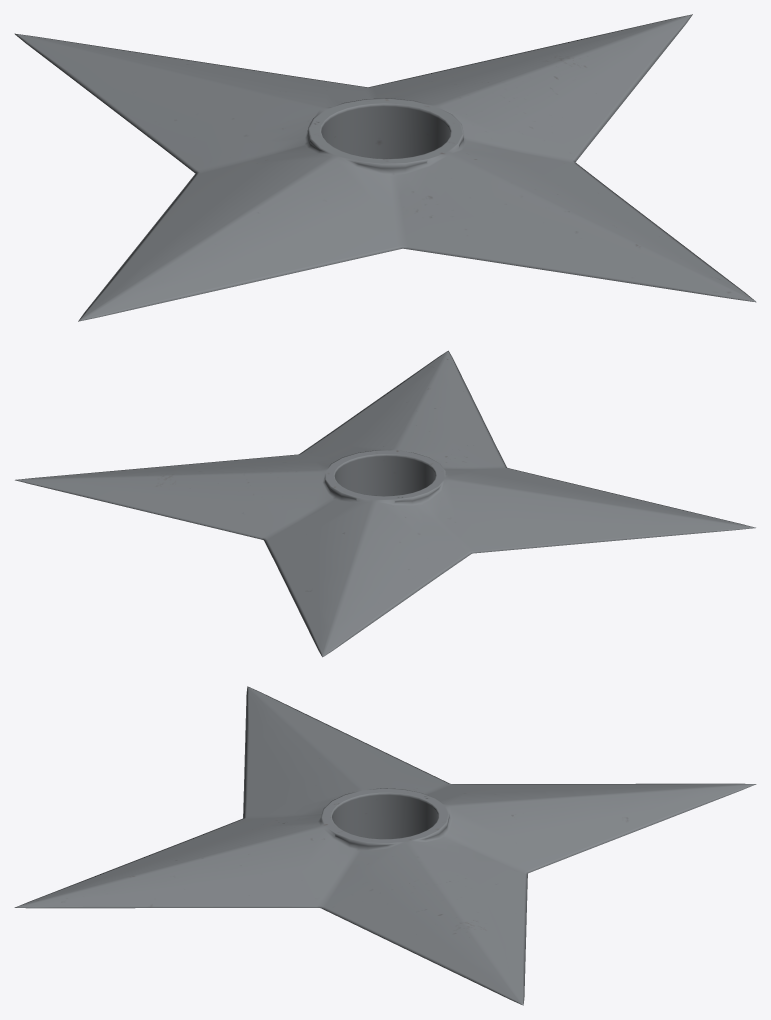
Rendered from Sjuriken1.fbx.
The picture shows the model from 3 angles, top to bottom: view 1: azimuth 30°, elevation 25°; view 2: azimuth 150°, elevation 25°; view 3: azimuth 270°, elevation 25°; orthographic projection. The views are drawn at different scales.
Visible parts, largest first — view 1: Shuriken; view 2: Shuriken; view 3: Shuriken.
Part boxes in pixels (left/top/right/bottom): Shuriken: left=14, top=14, right=756, bottom=321; Shuriken: left=15, top=350, right=755, bottom=657; Shuriken: left=14, top=686, right=756, bottom=1005.
Bounding box in the file's own units: 9.28 × 0.8504 × 9.28.
Materials: 1 (1 with a texture image).
